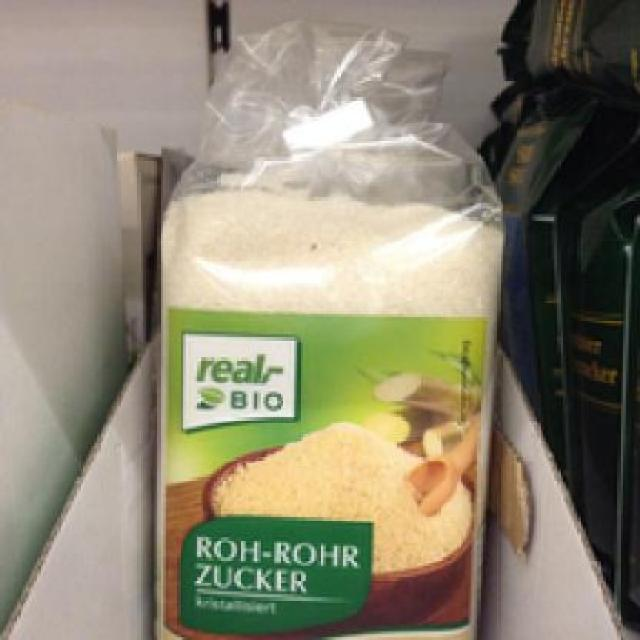Sugar: (148, 172, 508, 634)
